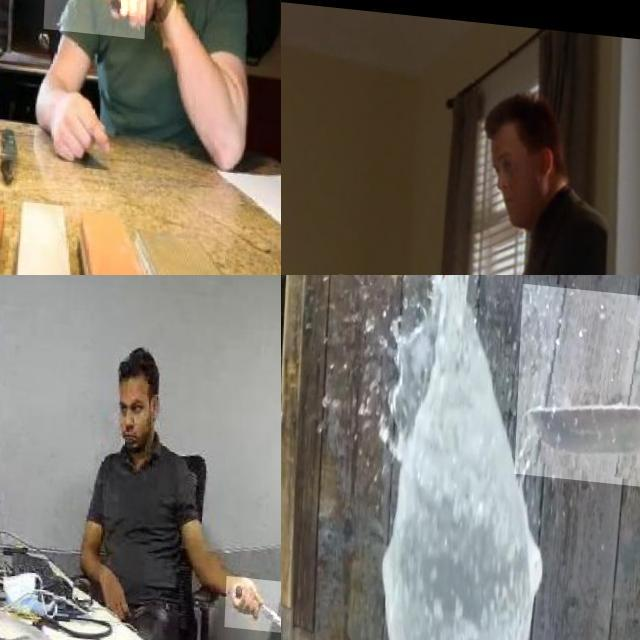-: (518, 277, 640, 487), (46, 0, 150, 50), (229, 568, 281, 625)
